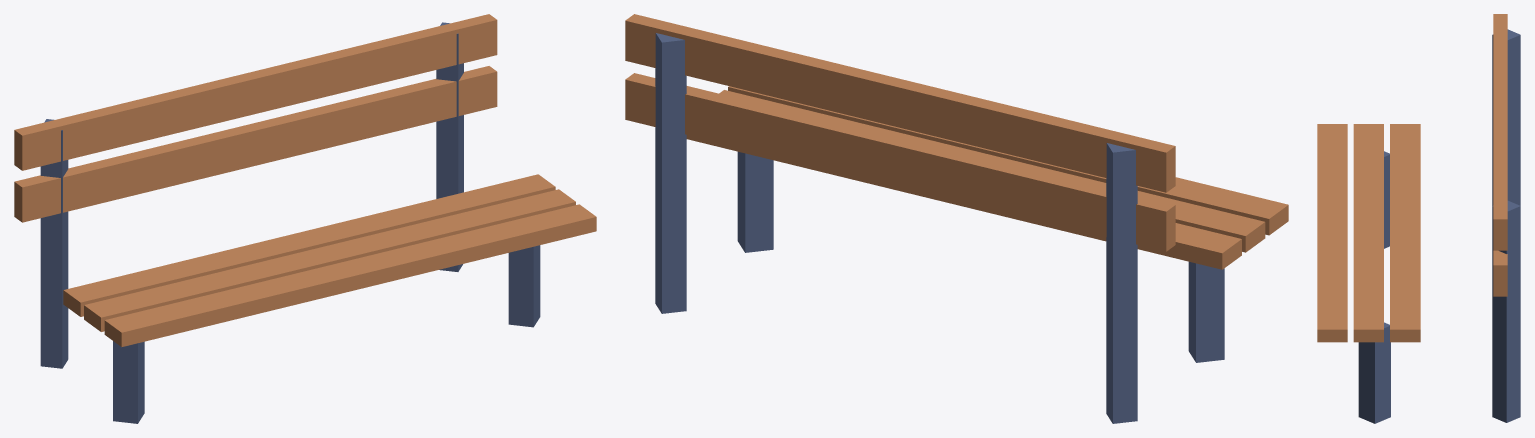
File: park_bench.glb
3 renders of one model, left to right at view 1: azimuth 30°, elevation 25°; view 2: azimuth 150°, elevation 25°; view 3: azimuth 270°, elevation 25°, orthographic. The views are drawn at different scales.
Parts seen in each view (by area): view 1: park_bench; view 2: park_bench; view 3: park_bench.
Part boxes in pixels (x1=…): park_bench: x1=14, y1=14, x2=596, y2=423; park_bench: x1=625, y1=14, x2=1288, y2=423; park_bench: x1=1317, y1=14, x2=1520, y2=423.
Size of the model in its own units: 2.4 by 1.17 by 1.
